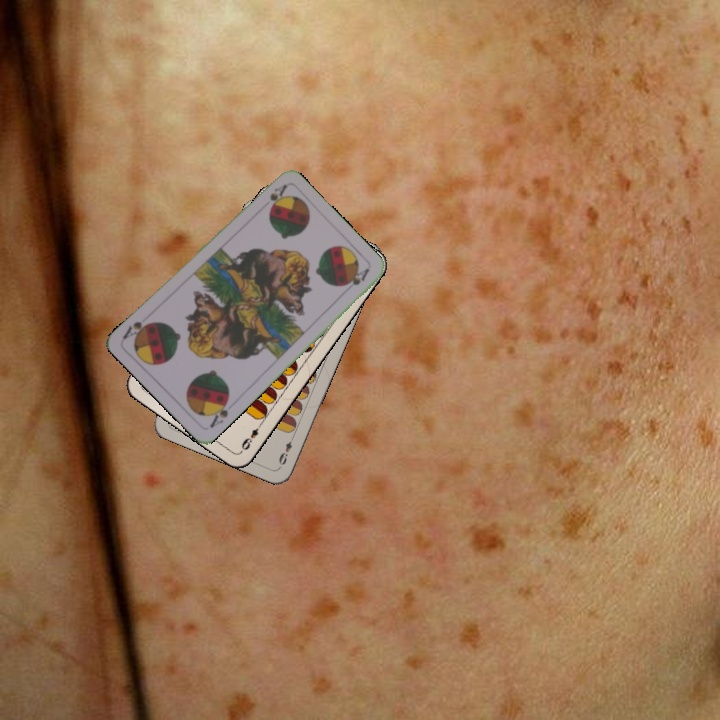E9: (237, 418, 265, 453), (274, 431, 297, 470)
SA: (205, 394, 232, 431), (265, 181, 289, 209)
